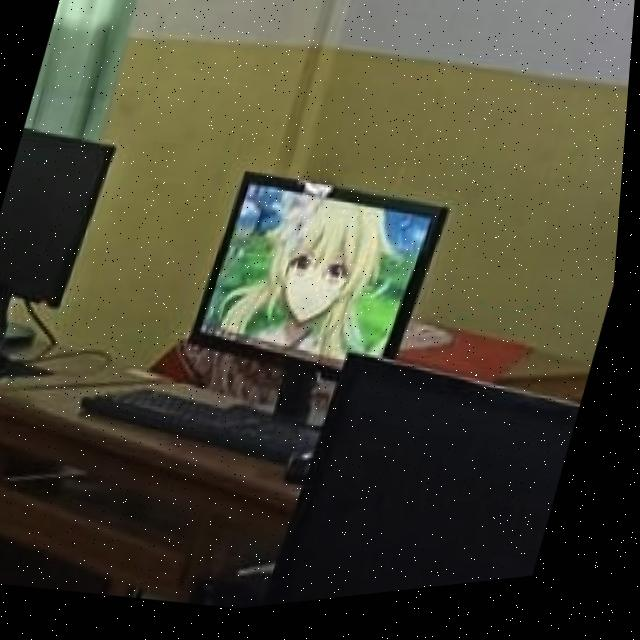offscreen: (0, 130, 117, 307)
onscreen: (197, 179, 450, 370)
